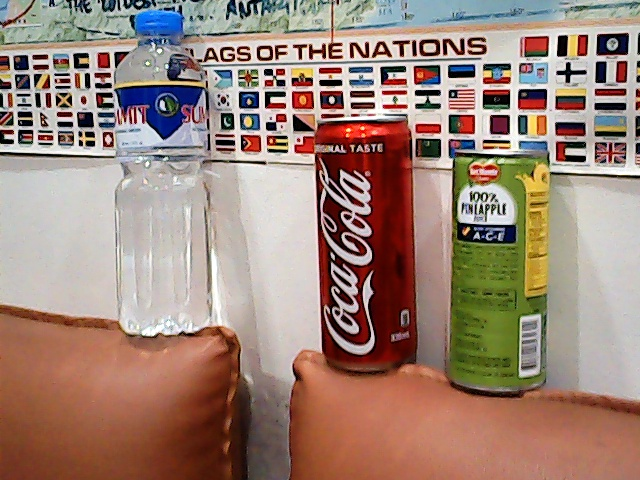Cola: (307, 104, 421, 375)
Pine Juice: (443, 138, 559, 395)
Summit Water: (101, 4, 227, 333)
